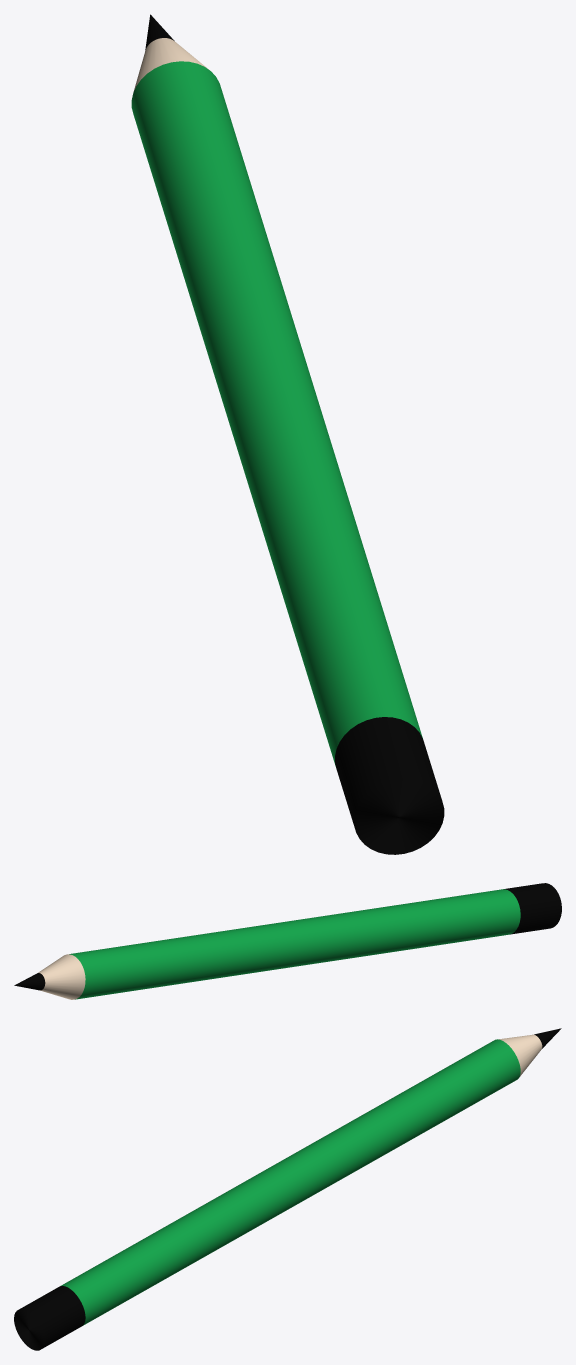
File: pencil.fbx
3 renders of one model, top to bottom at view 1: azimuth 30°, elevation 25°; view 2: azimuth 150°, elevation 25°; view 3: azimuth 330°, elevation 25°, orthographic. The views are drawn at different scales.
Parts seen in each view (by area): view 1: Pencil; view 2: Pencil; view 3: Pencil.
Part boxes in pixels (bbox=[...]): Pencil: bbox=[131, 14, 444, 854]; Pencil: bbox=[14, 883, 561, 999]; Pencil: bbox=[14, 1028, 561, 1350].
Bounding box in the file's own units: 43.34 × 26.05 × 112.
